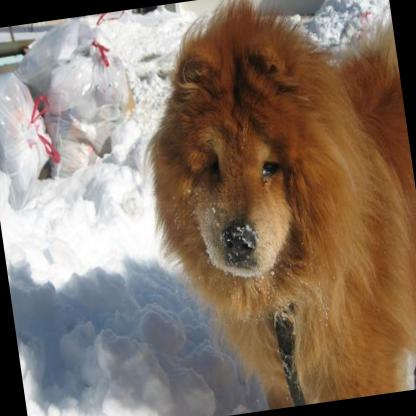chow: (120, 0, 416, 416)
